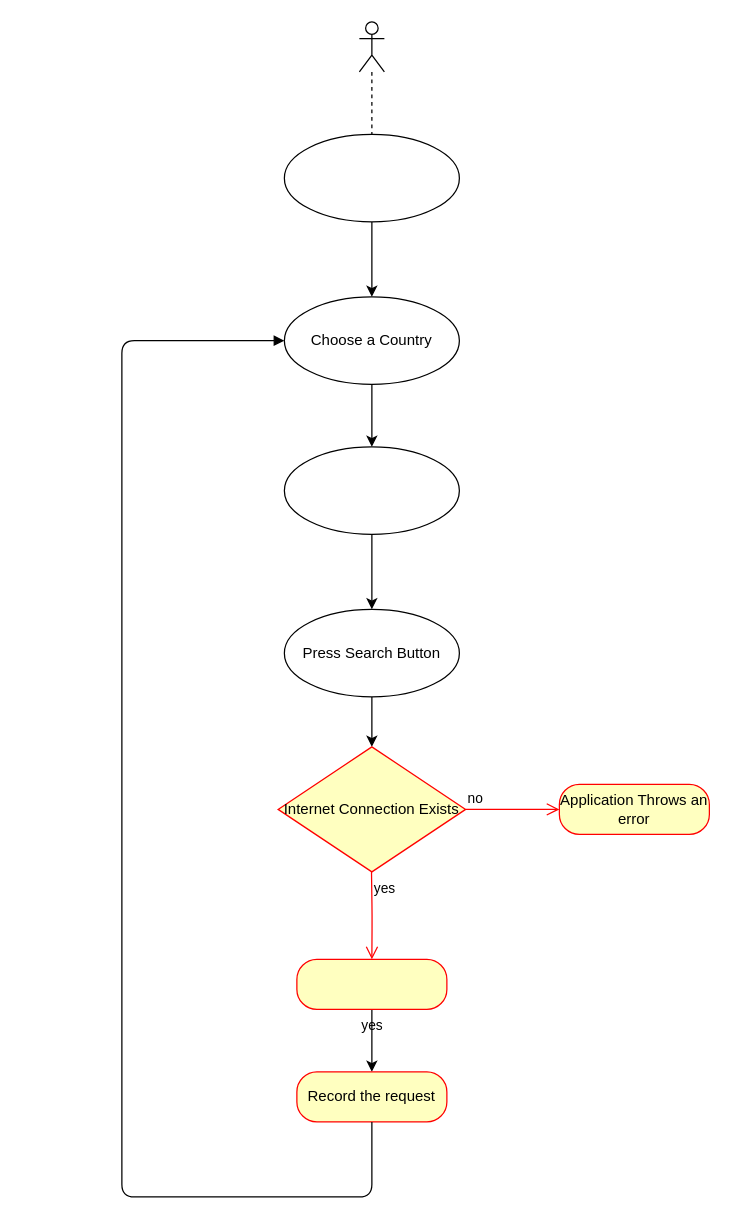
Image size: 731x1229. Some labels were removed from this diagram. Each missing label, with the centre of its shape:
"Choose a City" goes at point (371, 490).
"Showing weather info" goes at point (371, 983).
"StartUp Application" goes at point (371, 177).
